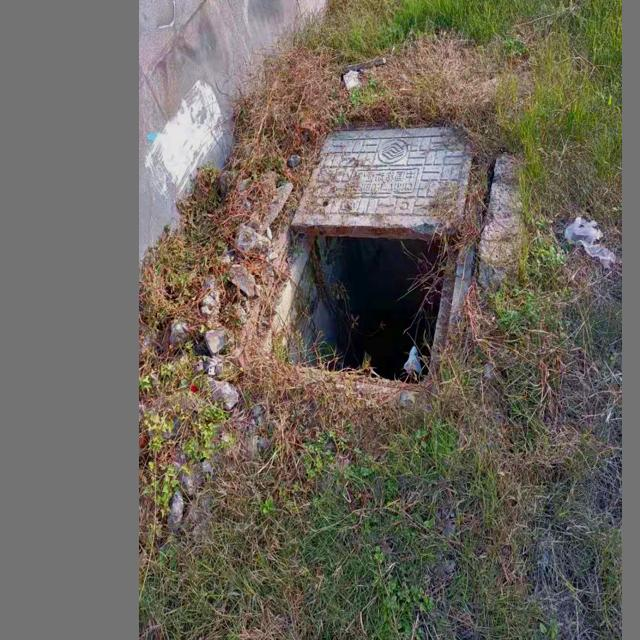lose: (271, 104, 499, 370)
